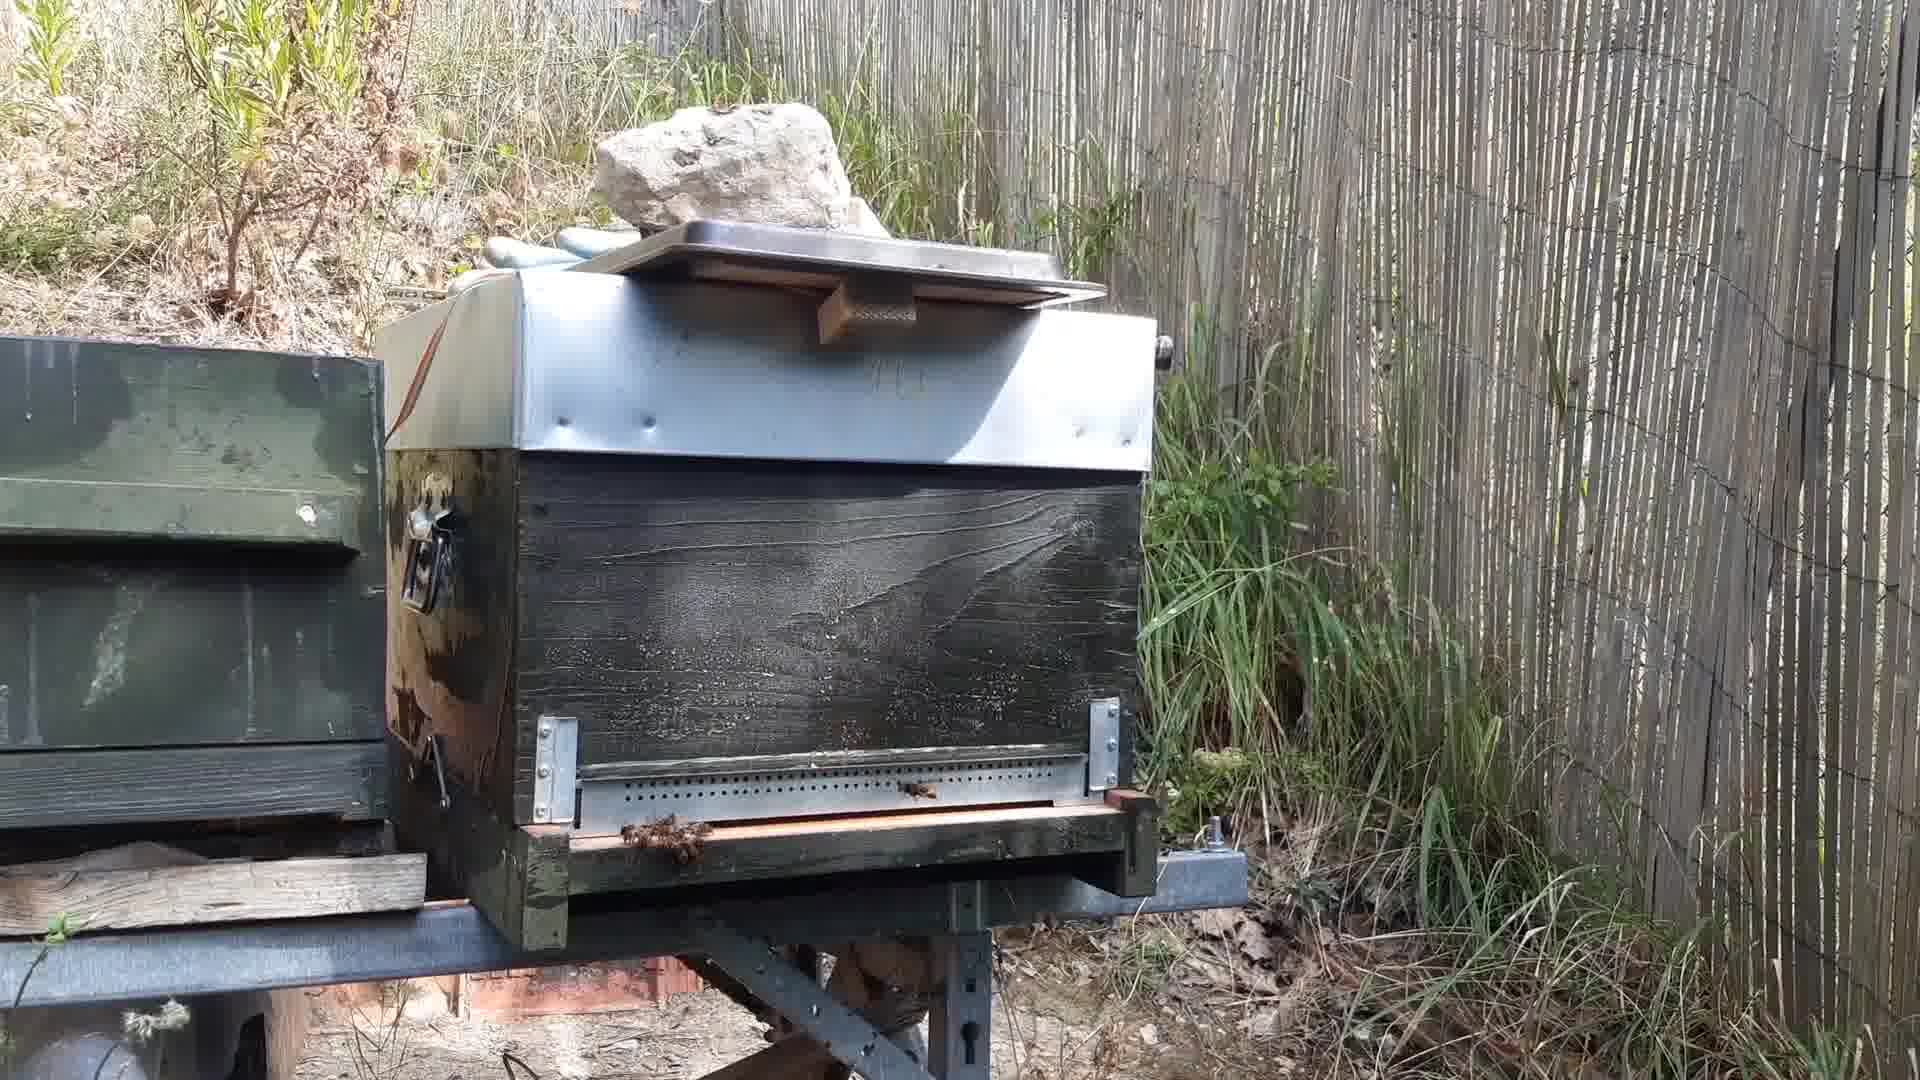bee: (618, 811, 716, 869)
hornet: (893, 777, 942, 807)
